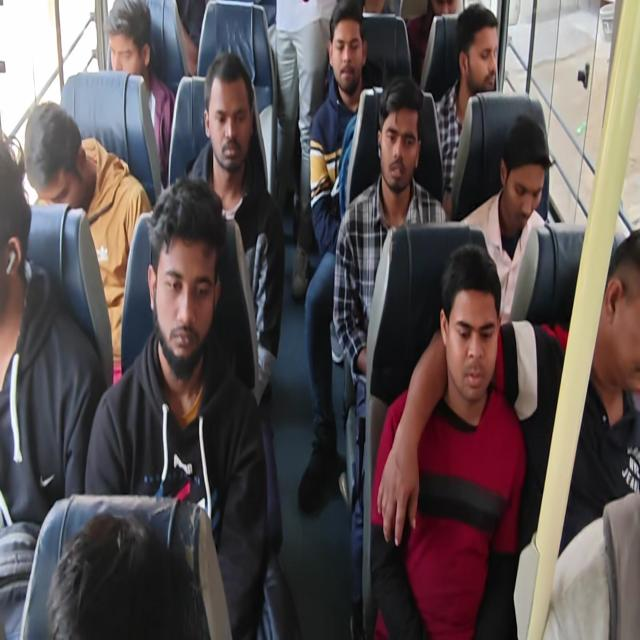person: (1, 1, 638, 638), (84, 175, 268, 638), (384, 228, 639, 562), (330, 74, 448, 636), (369, 242, 527, 638), (0, 128, 107, 638), (523, 228, 639, 638), (297, 1, 381, 515), (23, 100, 153, 385), (184, 51, 285, 410), (46, 511, 210, 639), (459, 113, 552, 326), (272, 0, 336, 299), (434, 1, 499, 217), (104, 0, 176, 188), (406, 0, 463, 86)
